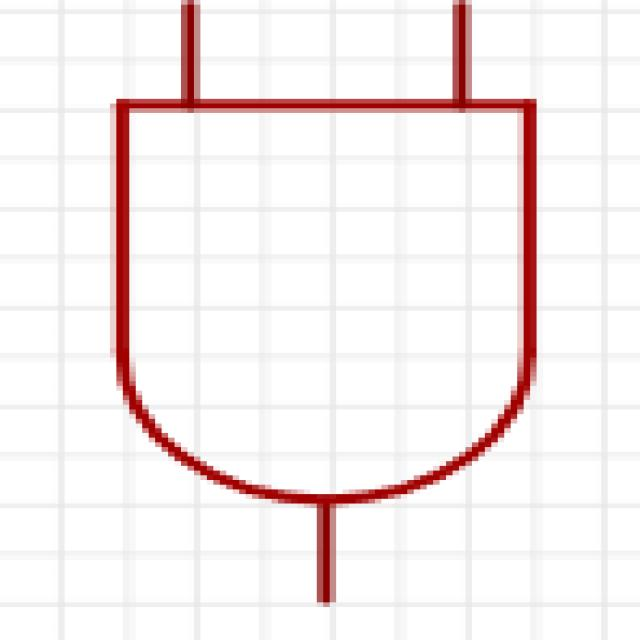and: (71, 0, 587, 628)
